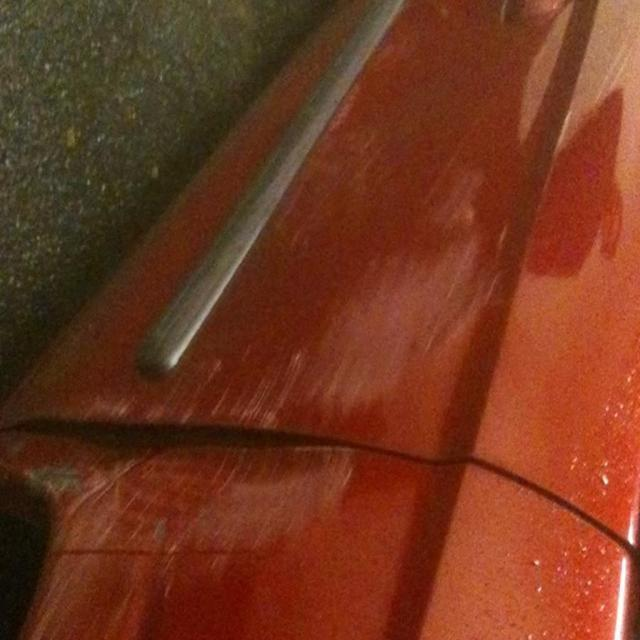scratch: (0, 322, 412, 627)
